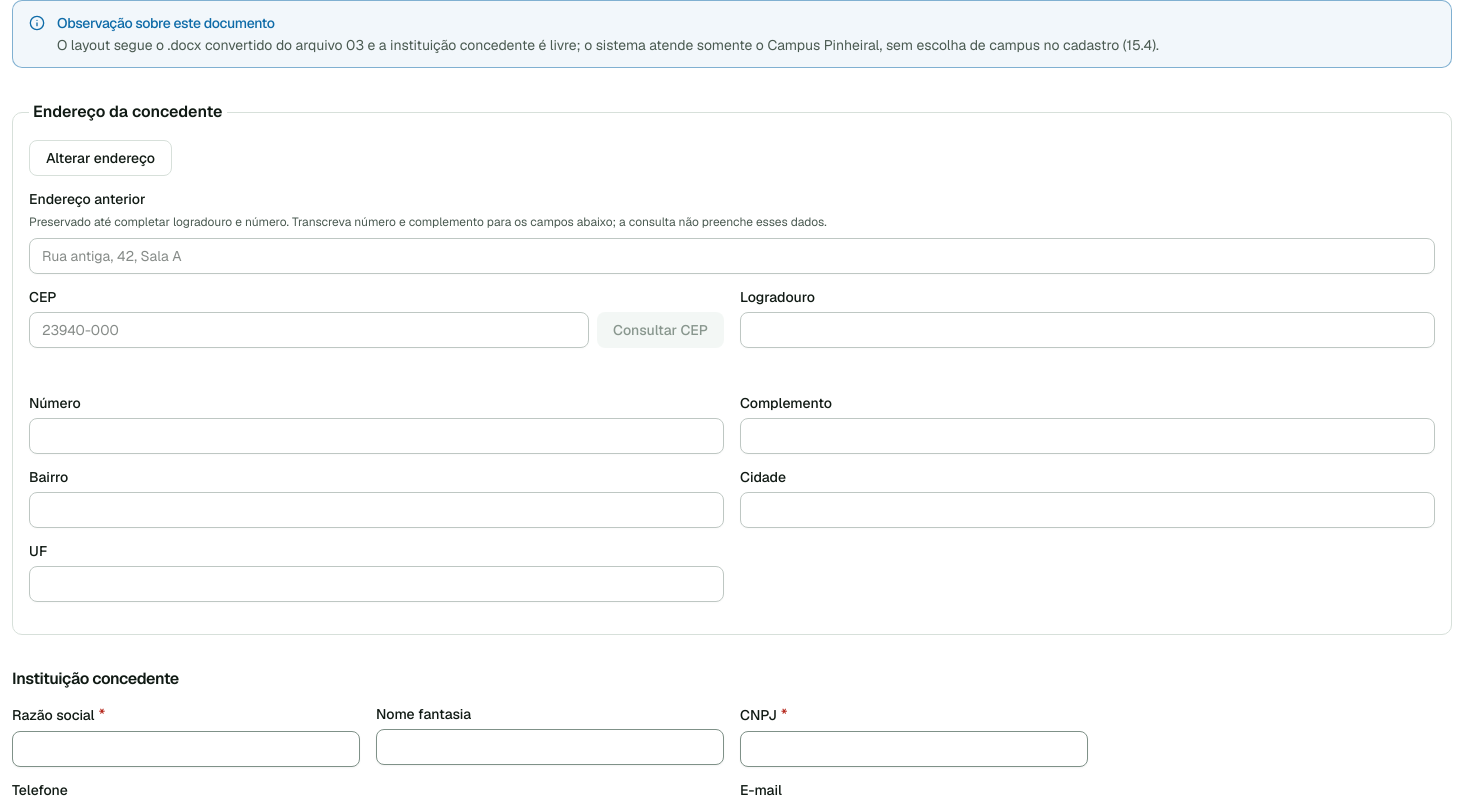
Scenario: integração dos sete grupos de documentos › não trunca o texto legado ao consultar resposta parcial
Click the button "Alterar endereço" at x=100, y=158, box 29,140 -> 172,176
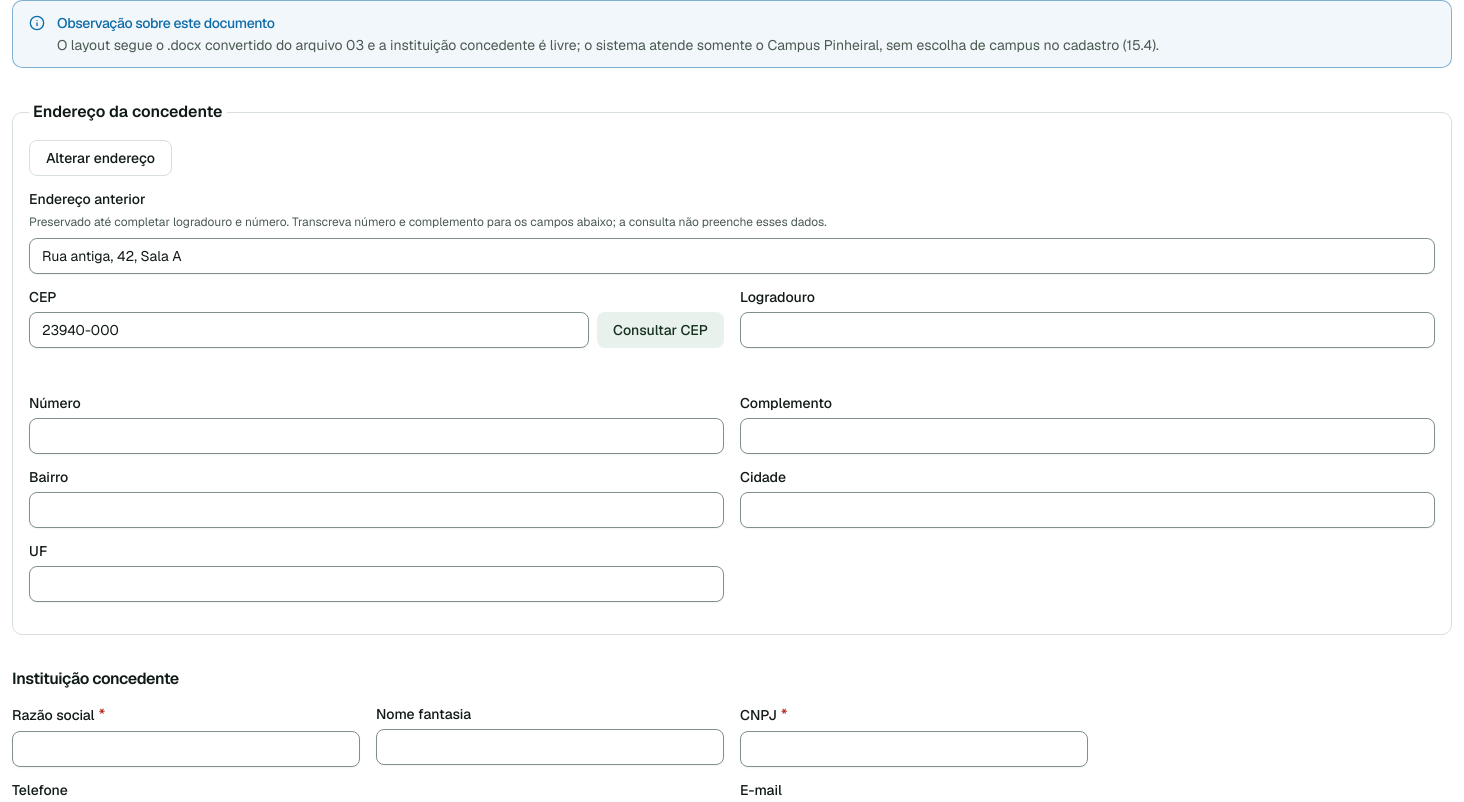
Click the button "Consultar CEP" at x=661, y=330, box 597,312 -> 724,348
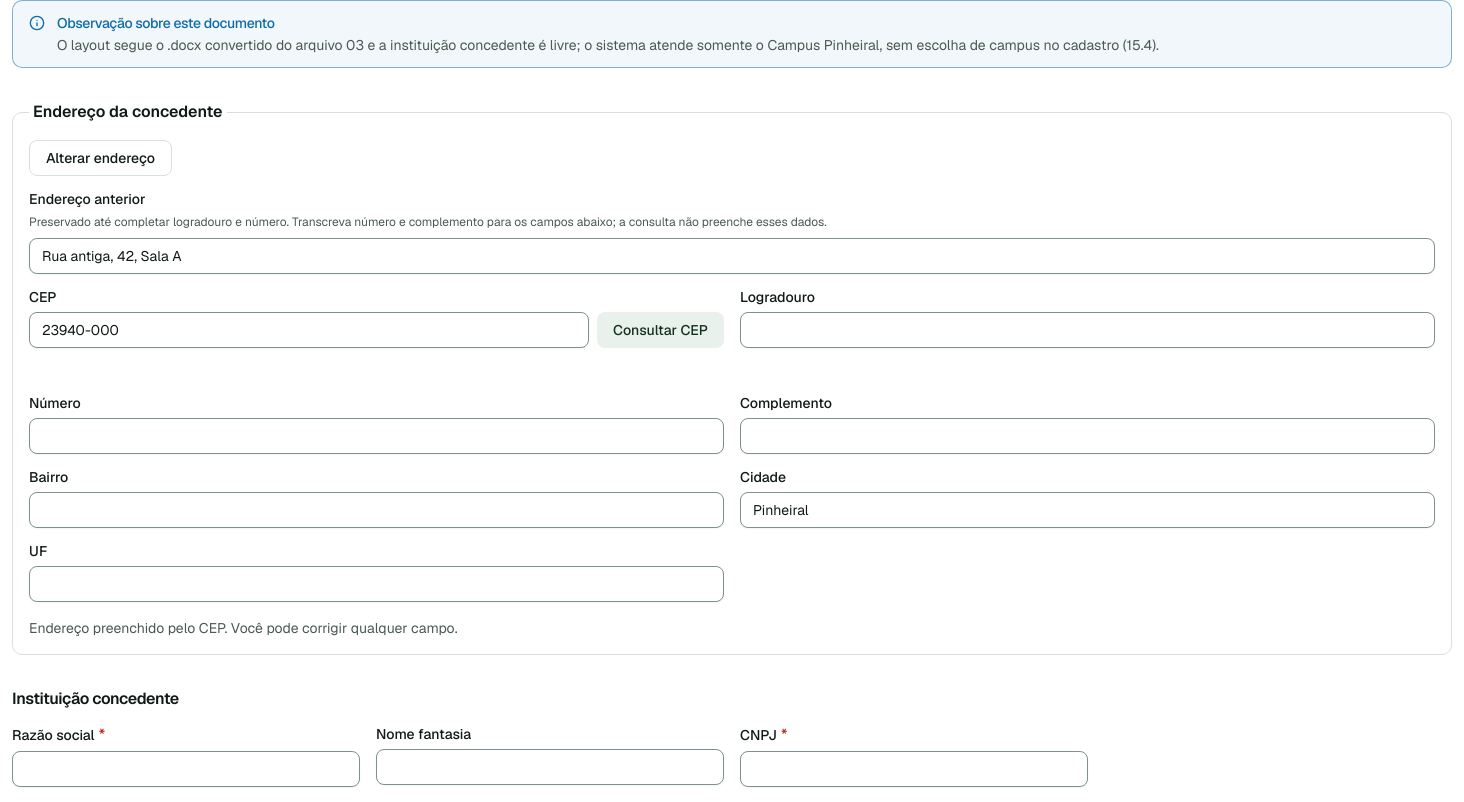
Expected: the field labelled "Endereço anterior" holds "Rua antiga, 42, Sala A", 29,238 -> 1435,274
Expected: the field labelled "Cidade" holds "Pinheiral", 740,492 -> 1435,528
Type "Rua reconstruída" into the field labelled "Logradouro" at x=1088, y=330, box 740,312 -> 1435,348
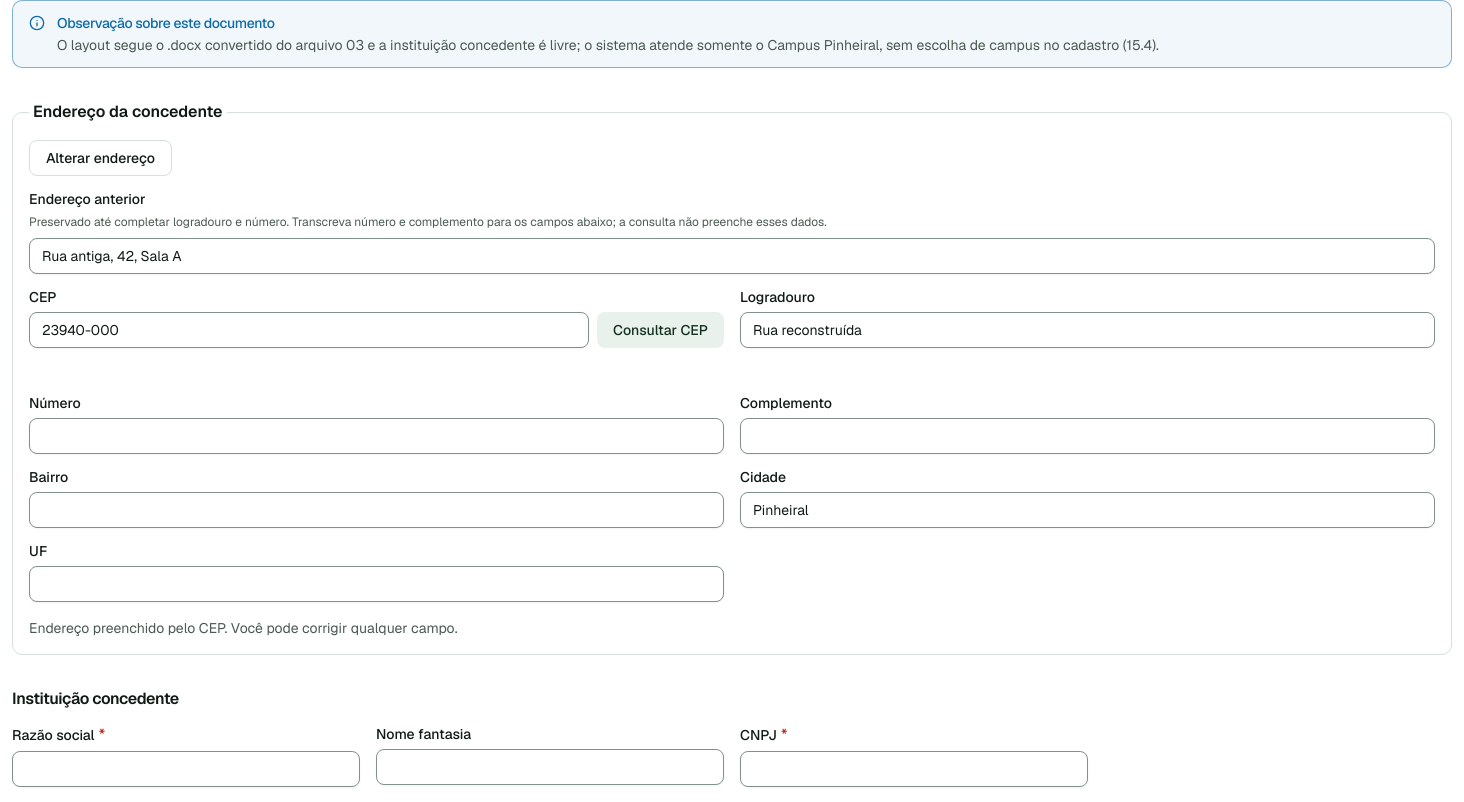
Type "42" into the field labelled "Número" at x=376, y=436, box 29,418 -> 724,454
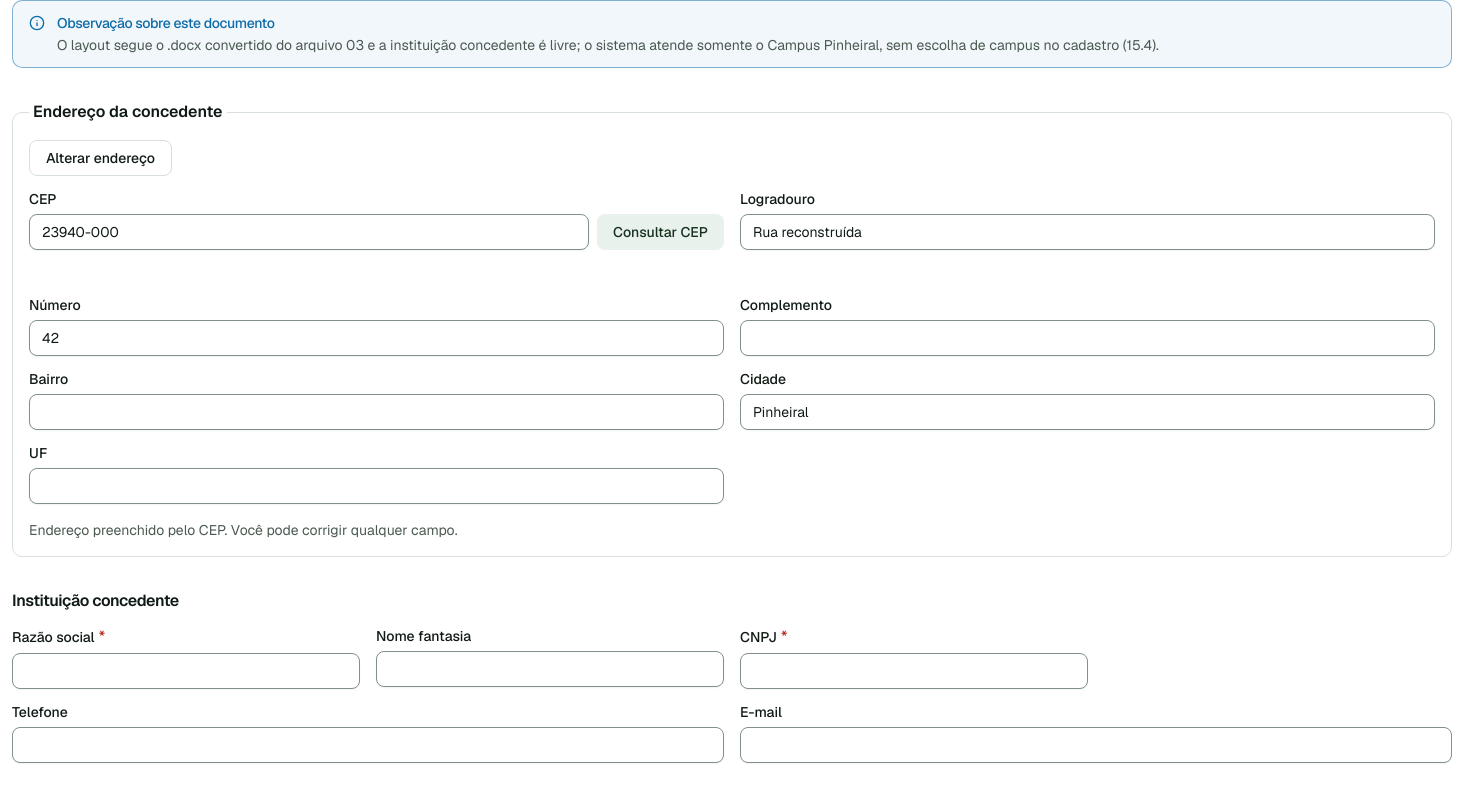
Expected: the label labelled "Endereço anterior" is gone
